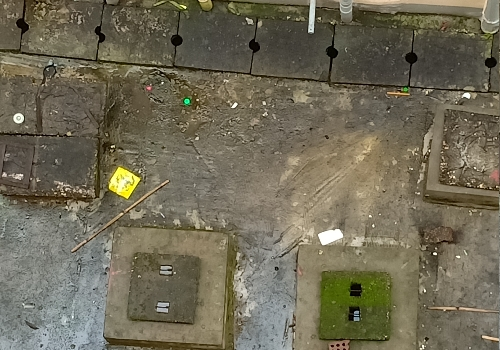trash: (103, 155, 153, 214), (312, 221, 350, 251), (386, 76, 414, 102), (177, 92, 194, 108)
